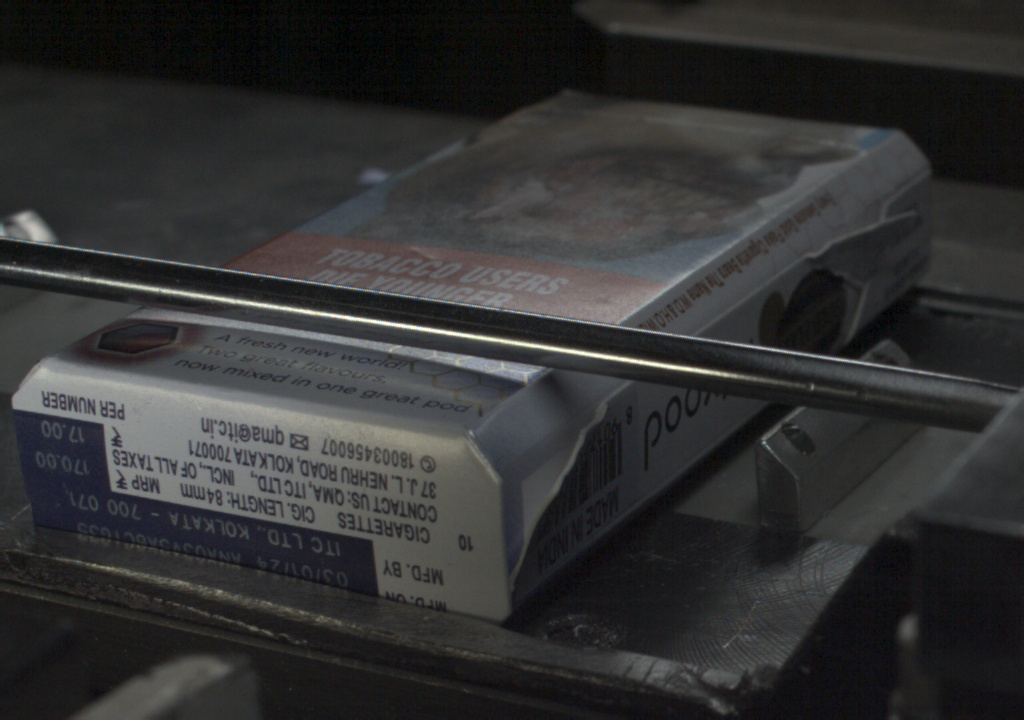g_bottom: (12, 359, 512, 626)
g_label: (23, 481, 377, 598)
g_lmiter: (703, 261, 793, 331)
g_miter: (885, 158, 931, 209)
ng_lmiter: (508, 402, 607, 565), (809, 217, 903, 258)
price: (23, 417, 112, 481)
